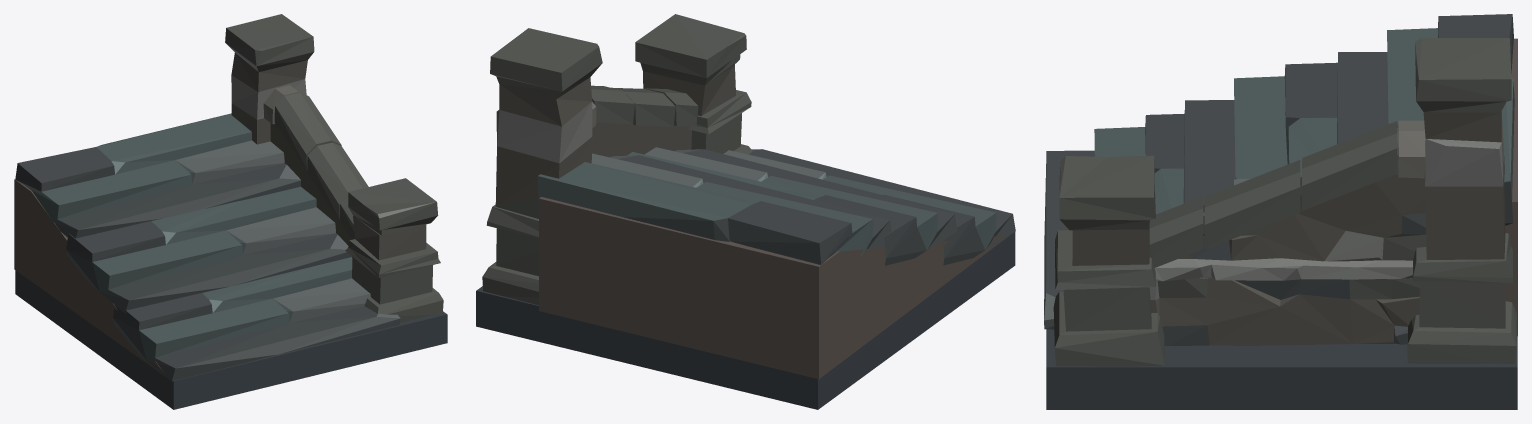
Rendered from MDungeons_StepsSide_01.FBX.
3 renders of one model, left to right at view 1: azimuth 30°, elevation 25°; view 2: azimuth 150°, elevation 25°; view 3: azimuth 270°, elevation 25°, orthographic. The views are drawn at different scales.
Visible parts, largest first — view 1: MDungeons_StepsSide_01_LOD0; view 2: MDungeons_StepsSide_01_LOD0; view 3: MDungeons_StepsSide_01_LOD0.
Boxes of the visible parts, bbox=[...] form: MDungeons_StepsSide_01_LOD0: bbox=[14, 14, 447, 409]; MDungeons_StepsSide_01_LOD0: bbox=[476, 14, 1015, 409]; MDungeons_StepsSide_01_LOD0: bbox=[1044, 14, 1517, 409].
Size of what is drawn, in the model's own units: 6.01 by 4.53 by 6.
